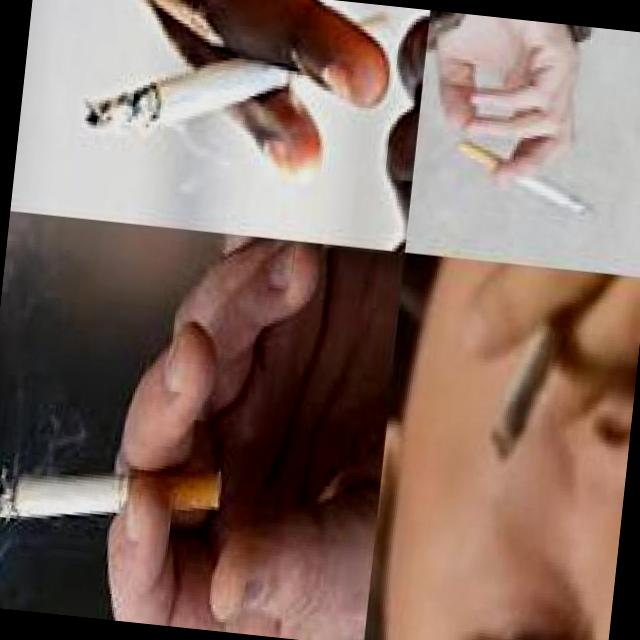smoke: (79, 0, 394, 165), (0, 440, 225, 543), (485, 284, 589, 471), (451, 140, 604, 224)
